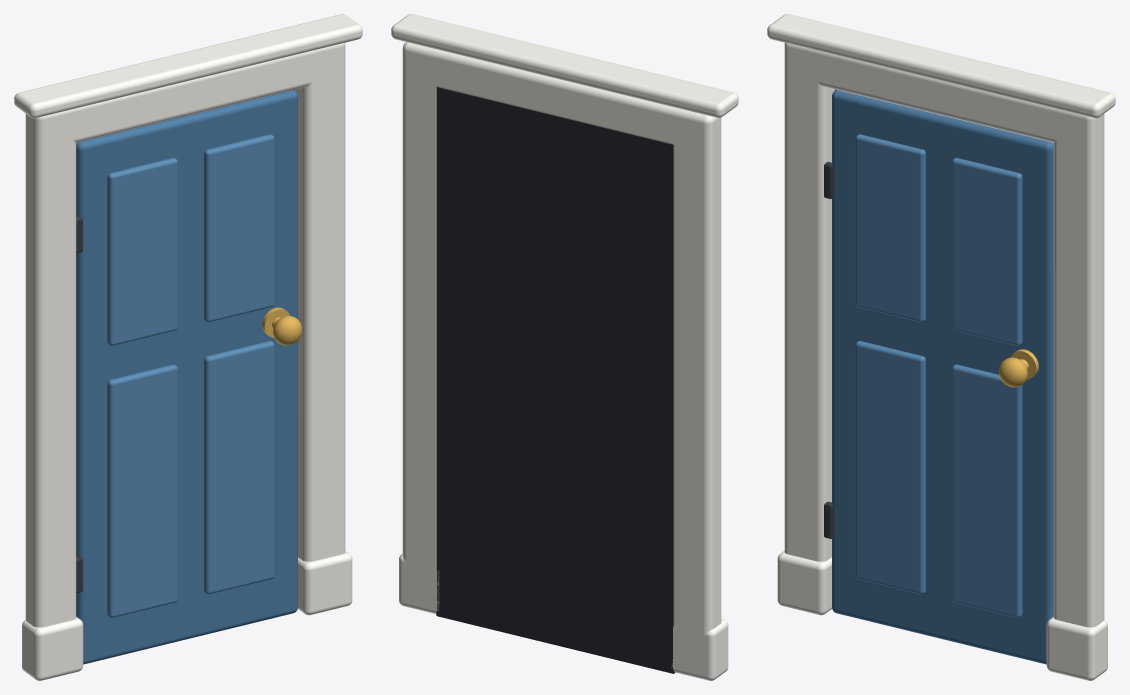
Rendered from cartoon_door.glb.
3 renders of one model, left to right at view 1: azimuth 30°, elevation 25°; view 2: azimuth 150°, elevation 25°; view 3: azimuth 330°, elevation 25°, orthographic.
Visible parts, largest first — view 1: DoorSlab, DoorCasingLeft, DoorCasingRight, DoorPanelLowerLeft, DoorPanelLowerRight, DoorPanelUpperRight, DoorPanelUpperLeft, DoorHead, DoorCap, DoorPlinthLeft, DoorPlinthRight, DoorKnob; view 2: DoorGap, DoorCasingLeft, DoorCasingRight, DoorHead, DoorCap, DoorPlinthLeft, DoorPlinthRight; view 3: DoorSlab, DoorCasingRight, DoorCasingLeft, DoorPanelLowerLeft, DoorPanelLowerRight, DoorPanelUpperLeft, DoorPanelUpperRight, DoorHead, DoorCap, DoorPlinthRight, DoorPlinthLeft, DoorKnob.
Part boxes in pixels (left/top/right/bottom): DoorSlab: left=76, top=90, right=297, bottom=664; DoorCasingLeft: left=25, top=109, right=76, bottom=627; DoorCasingRight: left=295, top=43, right=345, bottom=561; DoorPanelLowerLeft: left=107, top=364, right=177, bottom=617; DoorPanelLowerRight: left=204, top=341, right=274, bottom=594; DoorPanelUpperRight: left=204, top=134, right=274, bottom=322; DoorPanelUpperLeft: left=107, top=158, right=177, bottom=345; DoorHead: left=25, top=43, right=345, bottom=146; DoorCap: left=14, top=14, right=362, bottom=118; DoorPlinthLeft: left=22, top=617, right=83, bottom=680; DoorPlinthRight: left=298, top=551, right=352, bottom=615; DoorKnob: left=273, top=315, right=301, bottom=345; DoorGap: left=436, top=87, right=675, bottom=673; DoorCasingLeft: left=673, top=108, right=721, bottom=673; DoorCasingRight: left=402, top=42, right=436, bottom=608; DoorHead: left=403, top=42, right=721, bottom=150; DoorCap: left=391, top=14, right=738, bottom=117; DoorPlinthLeft: left=671, top=619, right=728, bottom=680; DoorPlinthRight: left=399, top=554, right=439, bottom=613; DoorSlab: left=832, top=90, right=1053, bottom=664; DoorCasingRight: left=1053, top=110, right=1104, bottom=627; DoorCasingLeft: left=784, top=43, right=834, bottom=561; DoorPanelLowerLeft: left=855, top=341, right=925, bottom=594; DoorPanelLowerRight: left=952, top=364, right=1022, bottom=617; DoorPanelUpperLeft: left=855, top=134, right=925, bottom=322; DoorPanelUpperRight: left=952, top=158, right=1022, bottom=345; DoorHead: left=784, top=43, right=1103, bottom=146; DoorCap: left=767, top=14, right=1115, bottom=118; DoorPlinthRight: left=1046, top=617, right=1107, bottom=680; DoorPlinthLeft: left=777, top=551, right=831, bottom=615; DoorKnob: left=998, top=357, right=1027, bottom=387.
Size of the model in its own units: 0.6 by 1 by 0.0932.
